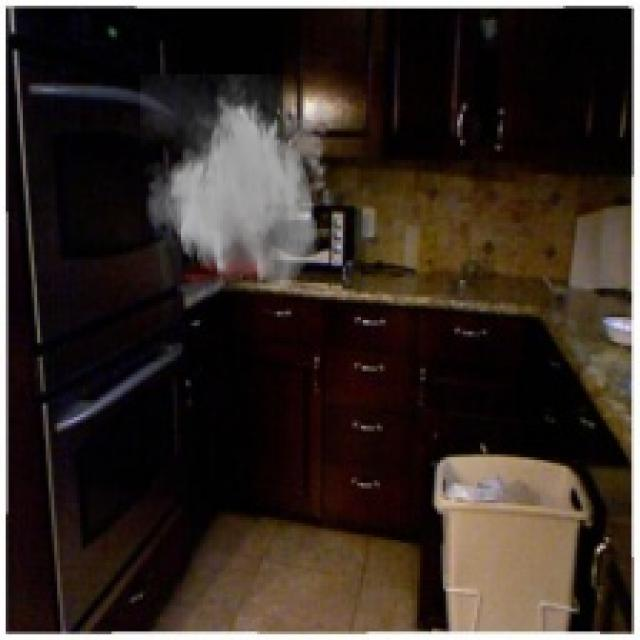smoke: (140, 74, 340, 294)
